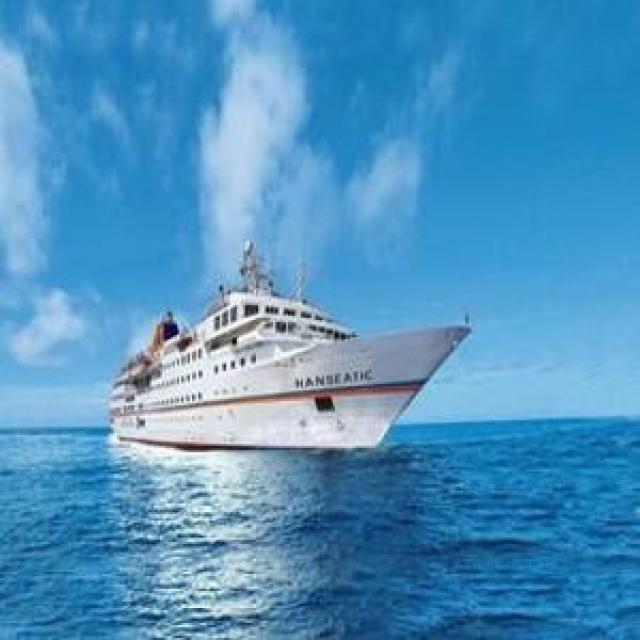passenger ship: (85, 244, 468, 464)
